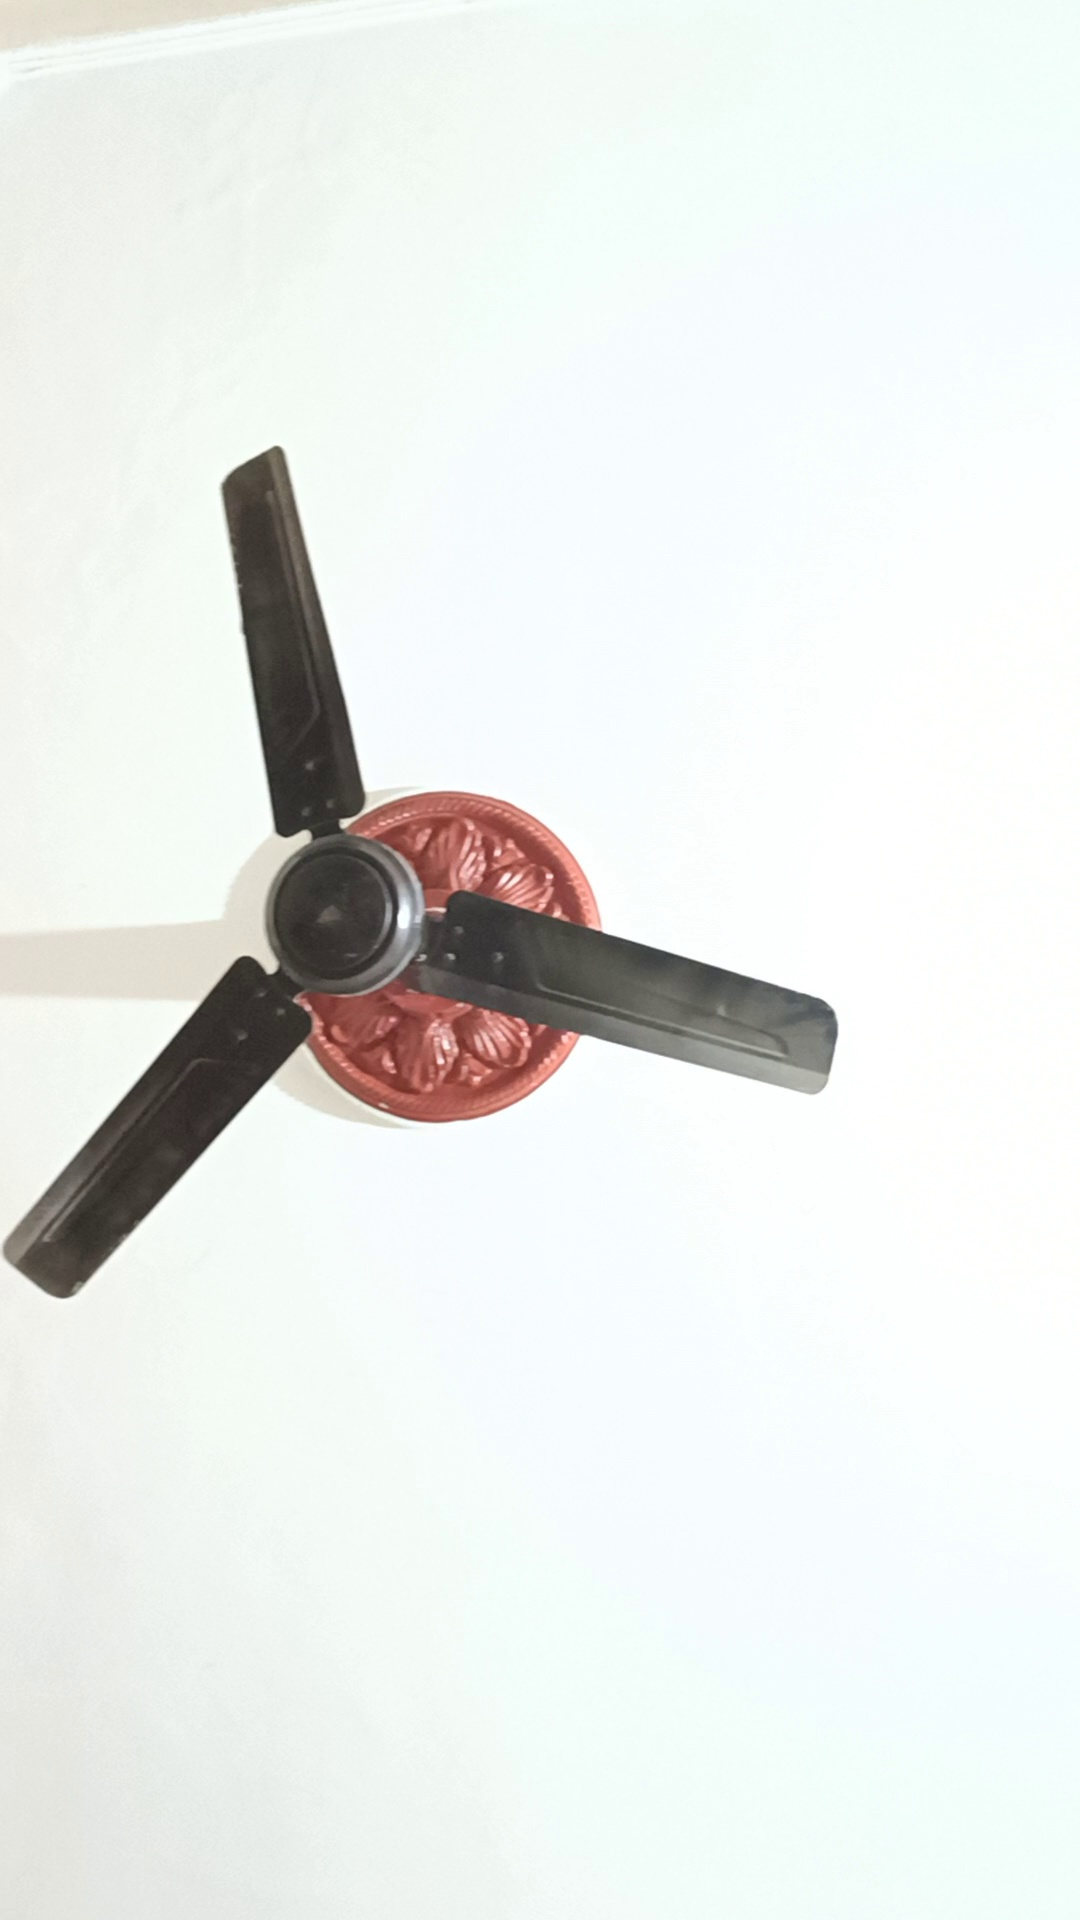fan: (1, 440, 856, 1342)
